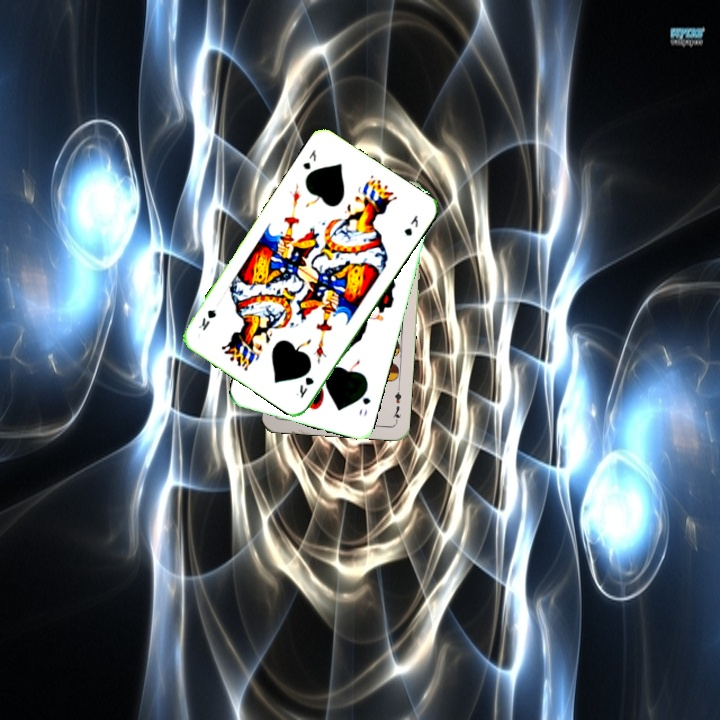E7: (389, 384, 404, 424)
GK: (292, 372, 317, 401), (298, 145, 319, 172)
GO: (355, 383, 373, 418)
